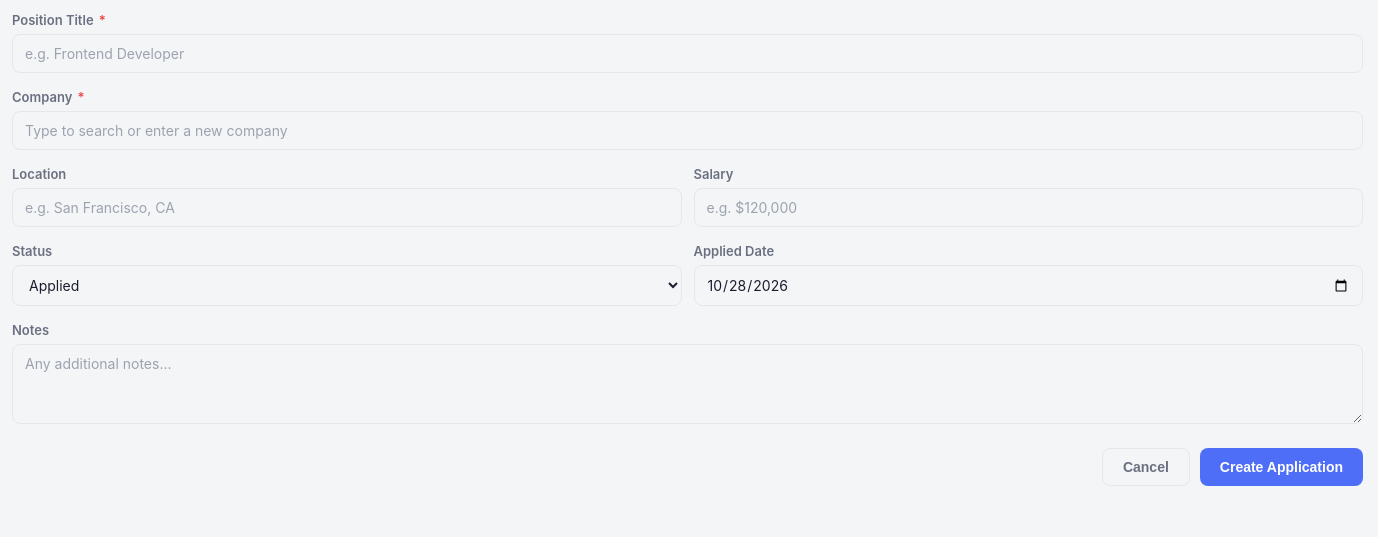
Test case: ApplicationForm › shows validation errors for empty required fields
Click the button "Create Application": (1281, 467) [1200, 448, 1363, 486]
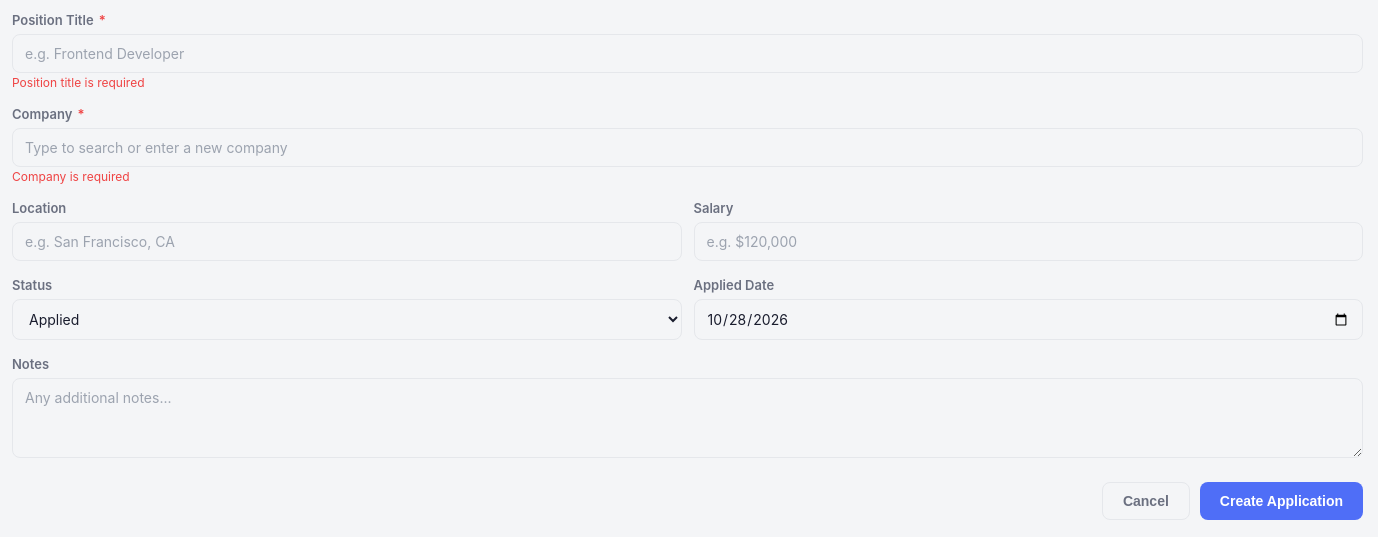
Expected: the text "Position title is required" is shown, [12, 75, 144, 90]
Expected: the text "Company is required" is shown, [12, 169, 130, 184]
